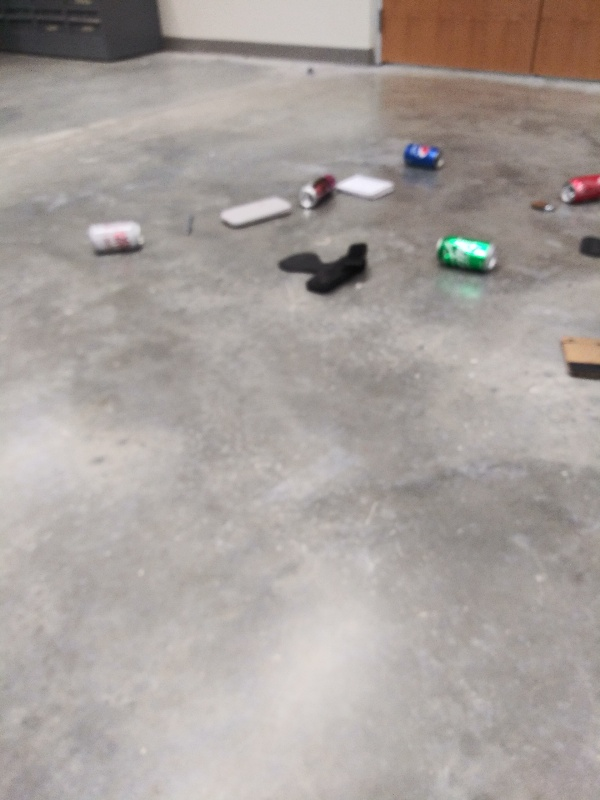can: (431, 232, 501, 276), (85, 215, 146, 259), (293, 173, 341, 212), (400, 141, 447, 175), (558, 171, 600, 207)
